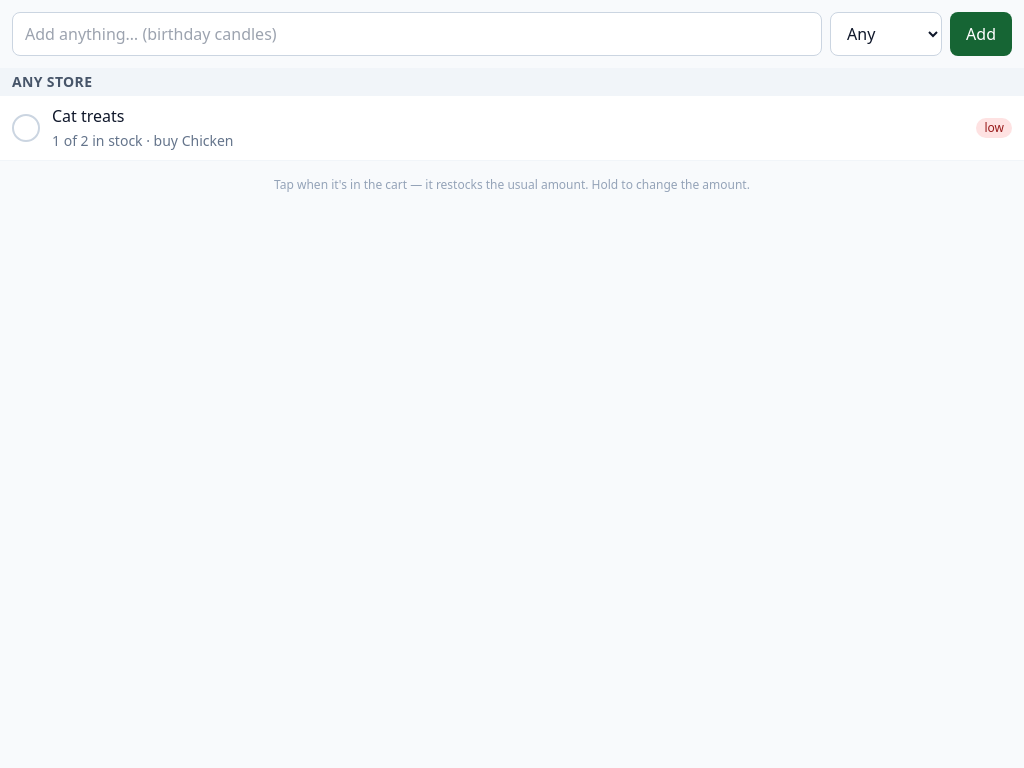
Test: Shopping screen › excludes untracked members from the "N of M in stock" count and the member picker
The image size is (1024, 768).
Expected: the text "Cat treats" is shown, [52,105,124,127]
Expected: the text "1 of 2 in stock · buy Chicken" is shown, [52,131,234,150]
Press the mouse on the button with aria-label "Got Chicken" at (88, 116), box [0,96,1023,161]
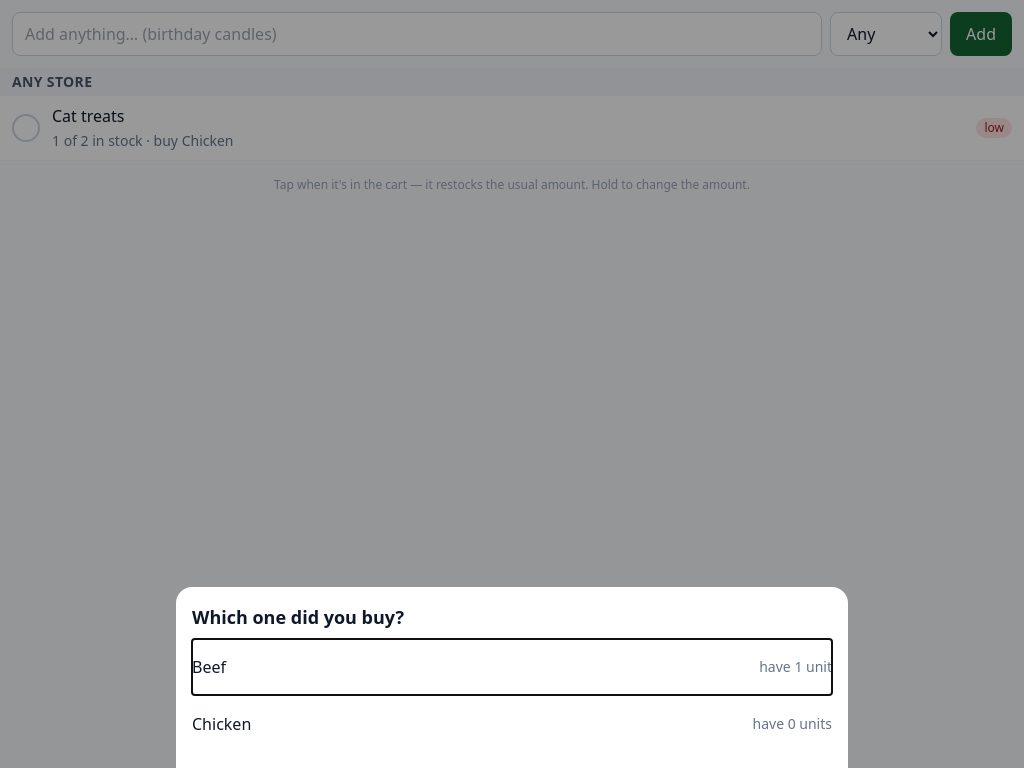
Now the heading "Which one did you buy?" is shown, box [192,605,404,629]
Now the text "Beef" is shown, box [192,655,226,679]
Now the text "Chicken" is shown, box [192,712,251,736]
